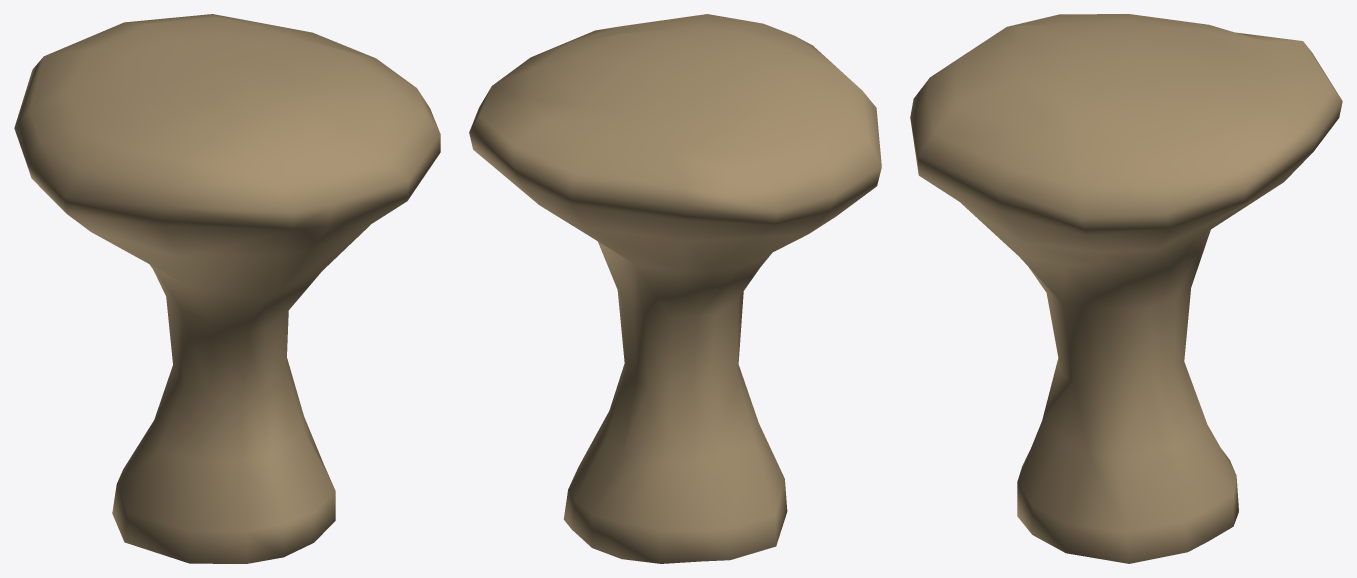
File: coral09.fbx
The picture shows the model from 3 angles, left to right: view 1: azimuth 30°, elevation 25°; view 2: azimuth 150°, elevation 25°; view 3: azimuth 270°, elevation 25°; orthographic projection.
Visible parts, largest first — view 1: Coral02_low2; view 2: Coral02_low2; view 3: Coral02_low2.
Part boxes in pixels (bbox=[...]): Coral02_low2: bbox=[14, 14, 440, 563]; Coral02_low2: bbox=[469, 14, 881, 563]; Coral02_low2: bbox=[910, 14, 1342, 563].
Bounding box in the file's own units: 326 × 390 × 332.
